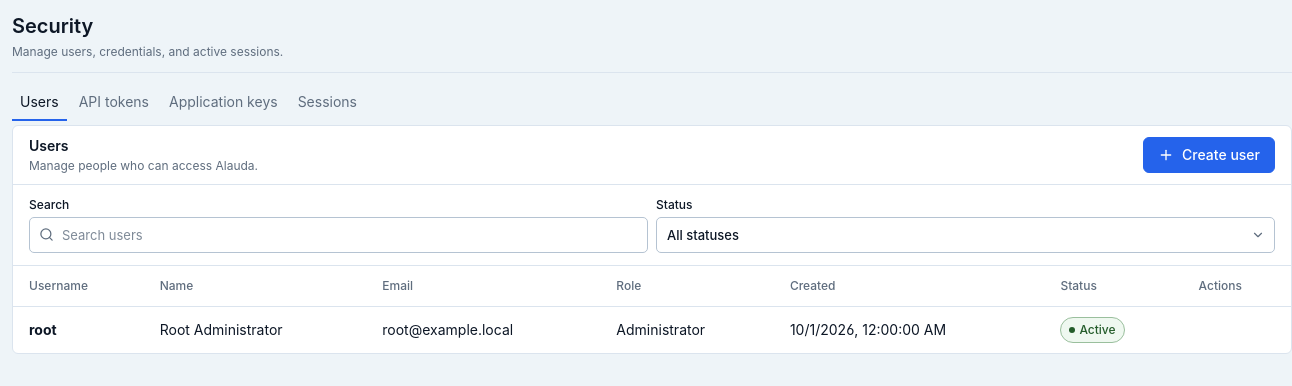
Test: Security workspace › distinguishes an empty filter result from an empty user catalog
Check: the table named "Users" is shown, box [13,266,1291,352]
Type "absent" into the search field labelled "Search" at [338, 235], box [29,217,648,253]
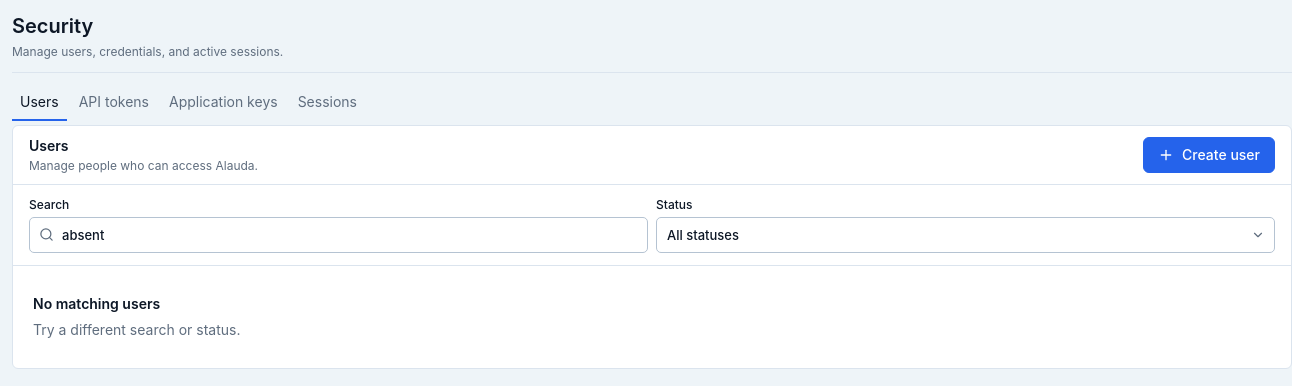
Check: the heading "No matching users" is shown, box [33,294,160,314]
Check: the text "No users" is gone
